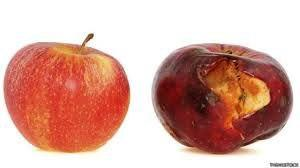Apple: (151, 44, 294, 154), (5, 42, 131, 150)
